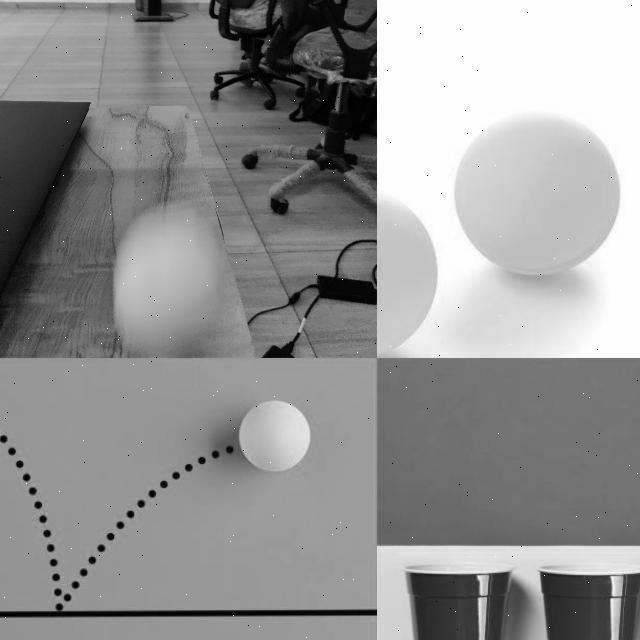ping-pong-ball: (454, 108, 618, 276), (117, 213, 220, 357), (377, 188, 437, 357), (237, 400, 311, 470)
